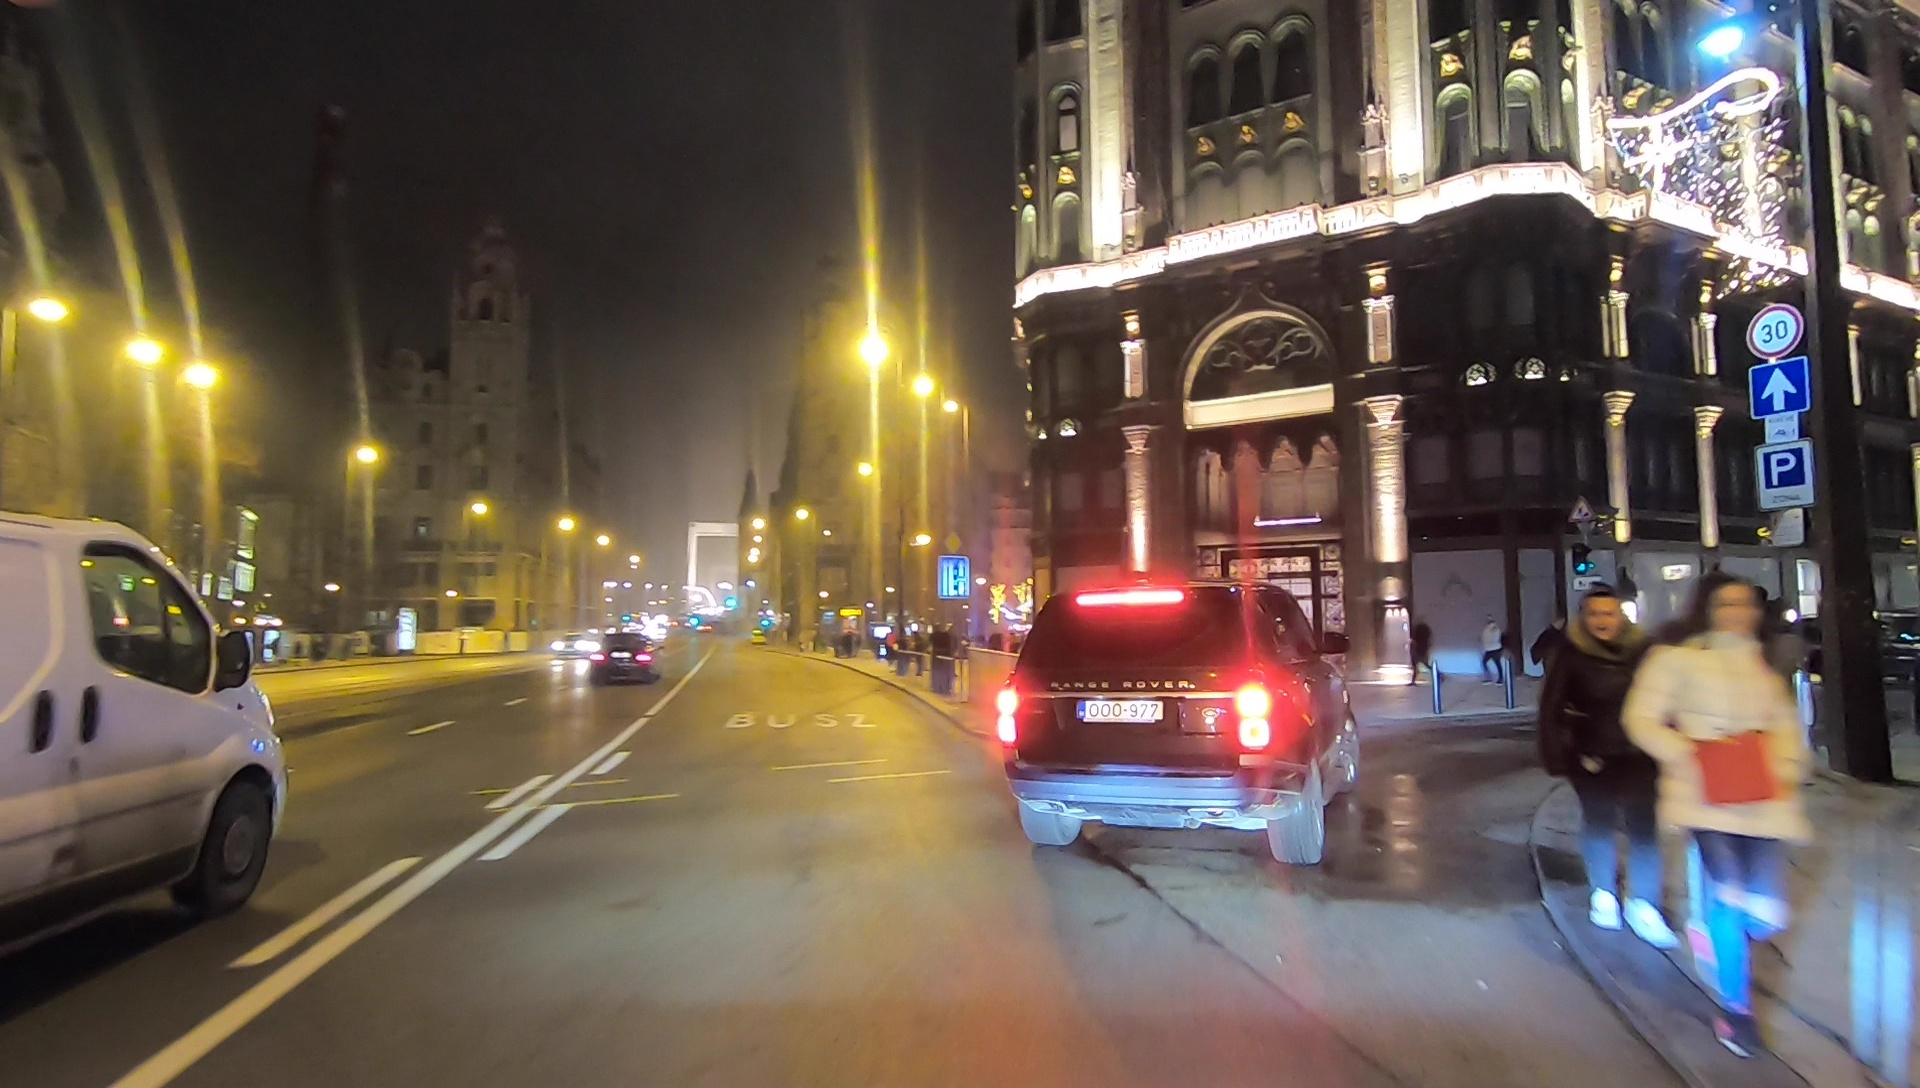person: (1654, 584, 1801, 1049), (1541, 586, 1678, 950), (1407, 616, 1442, 684), (1481, 614, 1508, 685)
